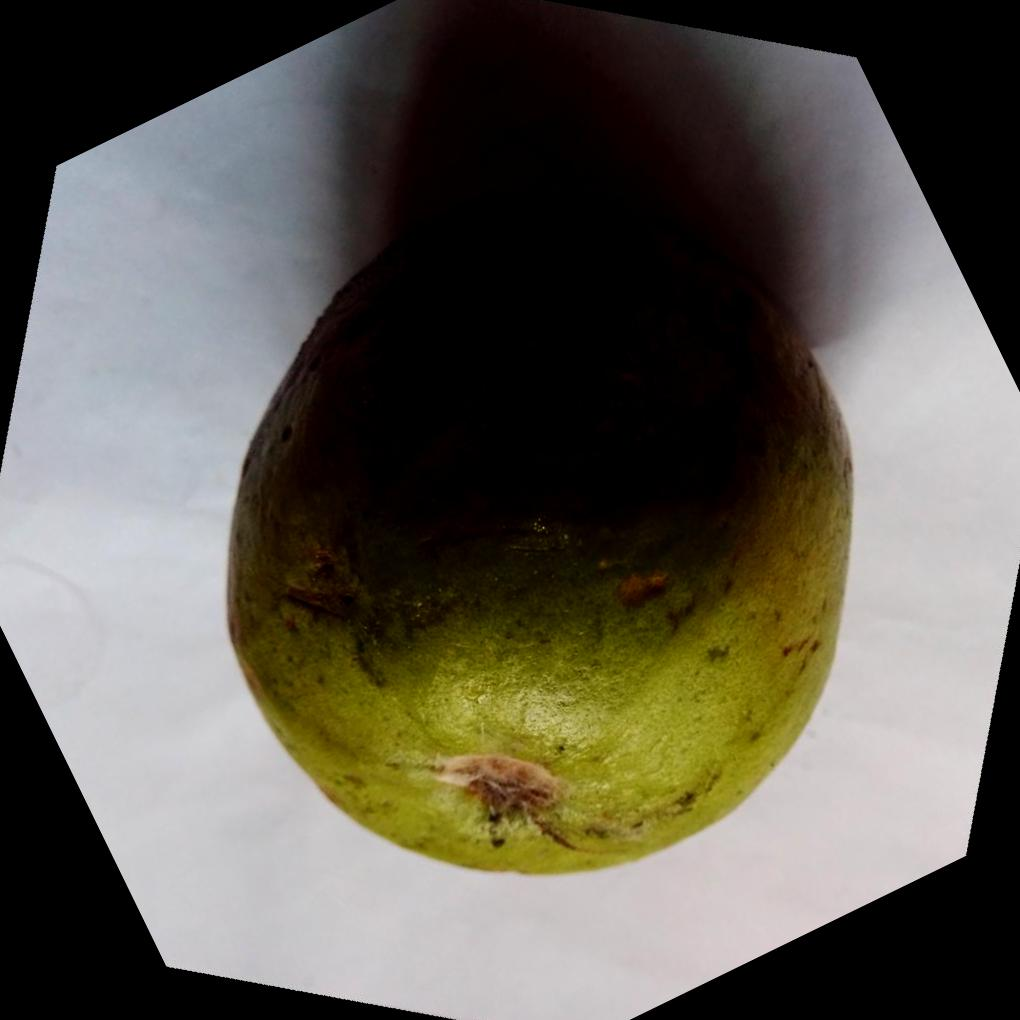FreshOrange: (221, 191, 854, 875)
